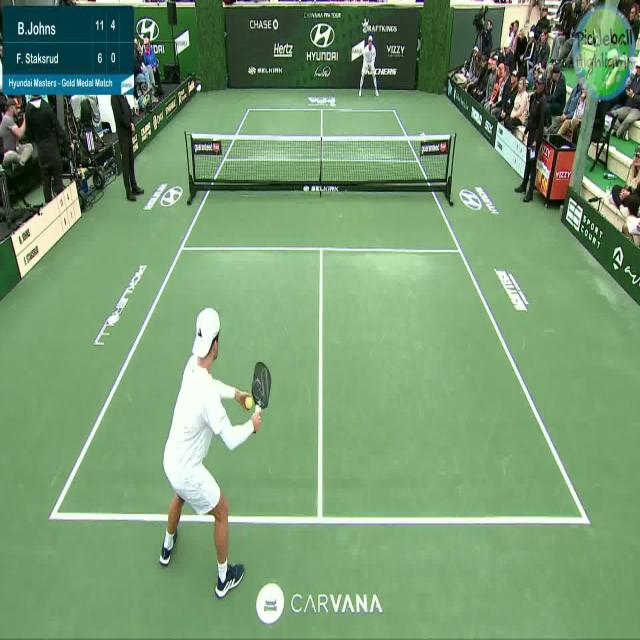ball: (244, 393, 256, 416)
